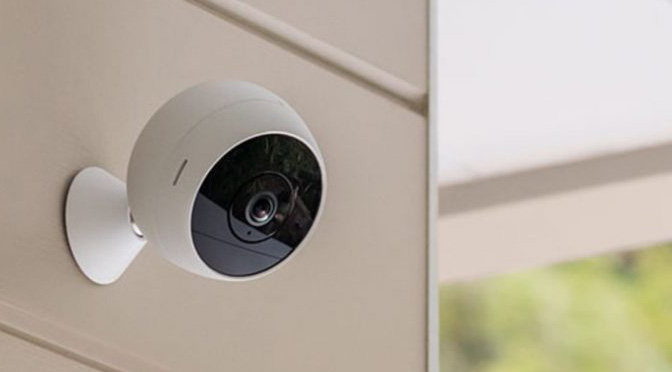Nest Cam: (122, 74, 338, 287)
